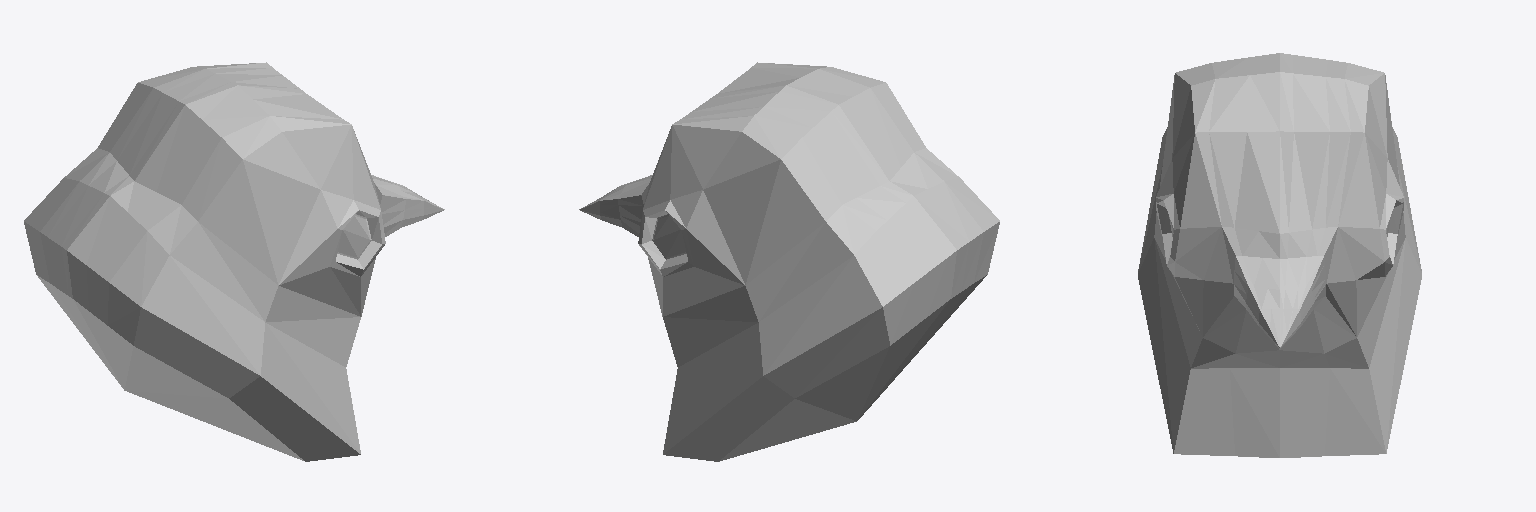
File: Bird_Head.obj
The picture shows the model from 3 angles: view 1: azimuth 30°, elevation 25°; view 2: azimuth 150°, elevation 25°; view 3: azimuth 270°, elevation 25°; orthographic projection.
Visible parts, largest first — view 1: Bird_Head1; view 2: Bird_Head1; view 3: Bird_Head1.
Part boxes in pixels (bbox=[...]): Bird_Head1: bbox=[24, 62, 444, 461]; Bird_Head1: bbox=[579, 62, 999, 461]; Bird_Head1: bbox=[1138, 53, 1421, 457].
Size of the model in its own units: 2.08 by 1.84 by 1.36.